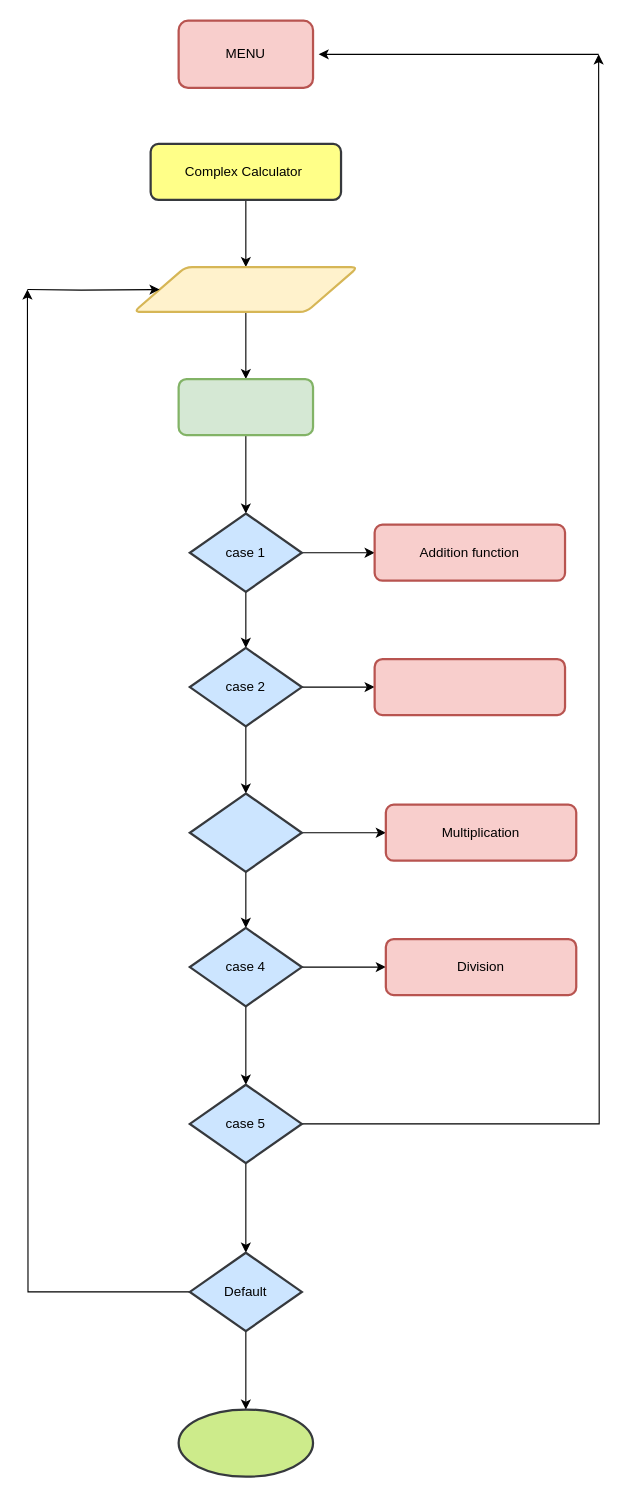
This 628x1496 diagram has some shape labels left out. The centre of each missing label's shape, as x and y in pixels:
"case 3" goes at (245,832).
"Operation Selection" goes at (245,288).
"Stop" goes at (245,1442).
"Substraction" goes at (469,686).
"Switch statement" goes at (245,406).
